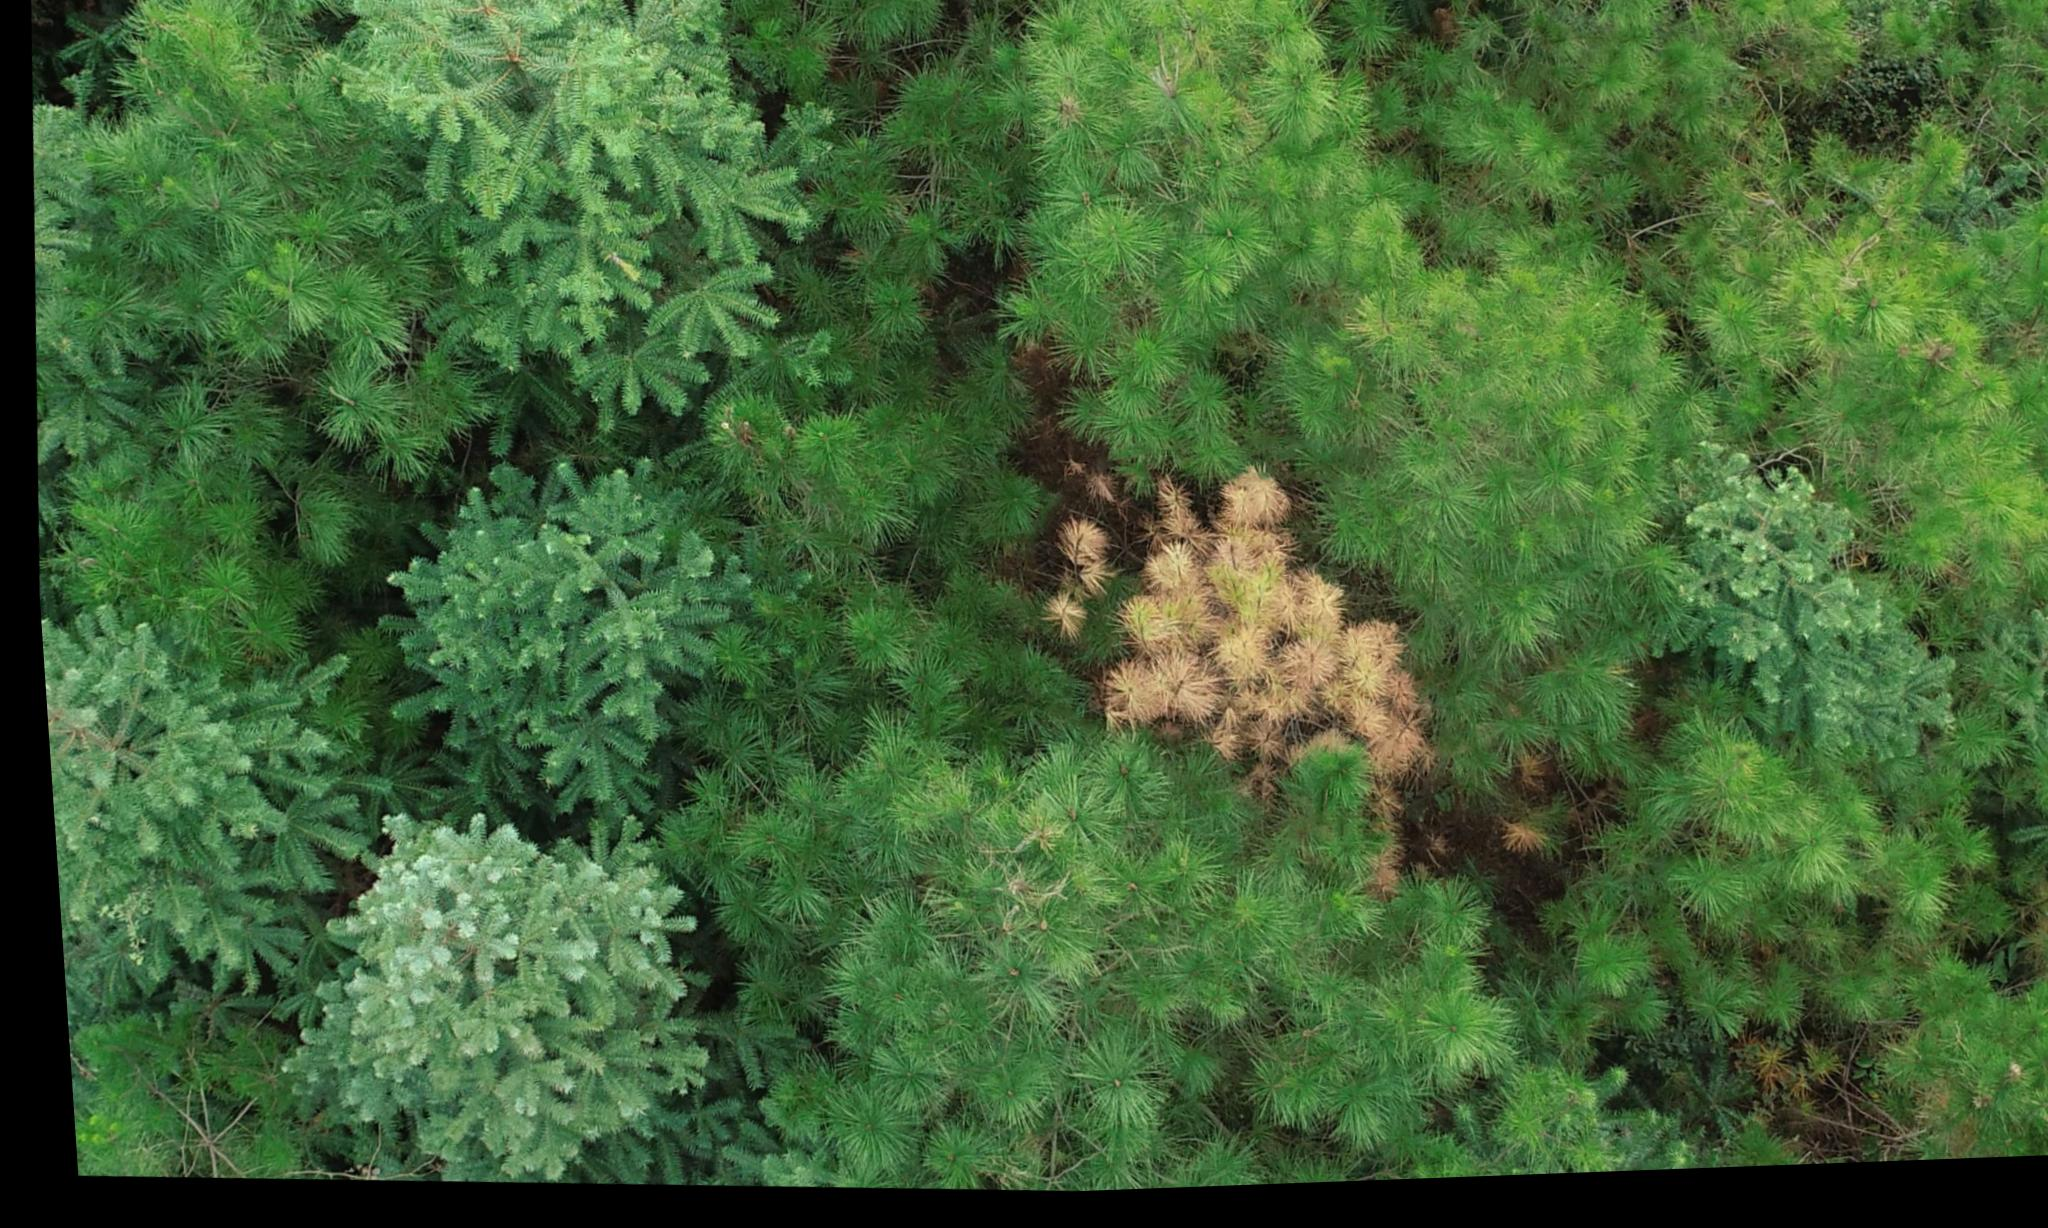heavy: (1035, 468, 1425, 792)
